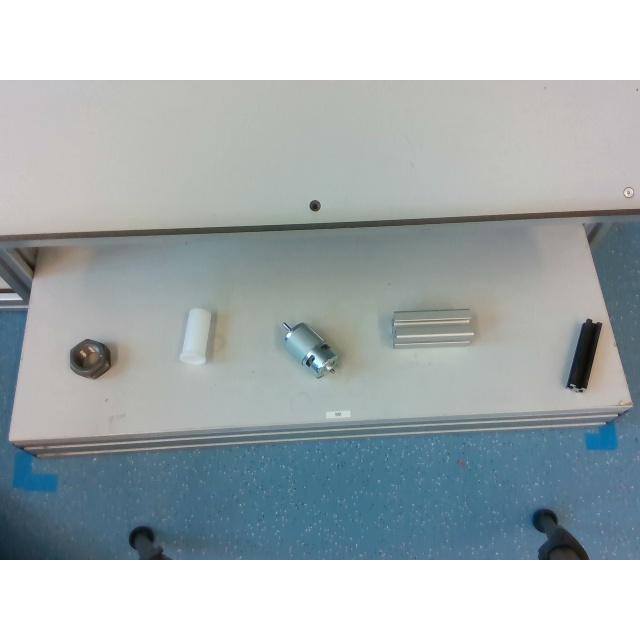F20_20_B: (568, 320, 600, 388)
M30: (70, 339, 110, 377)
Motor2: (284, 320, 336, 376)
S40_40_G: (392, 308, 472, 346)
Spacer: (179, 308, 211, 362)
